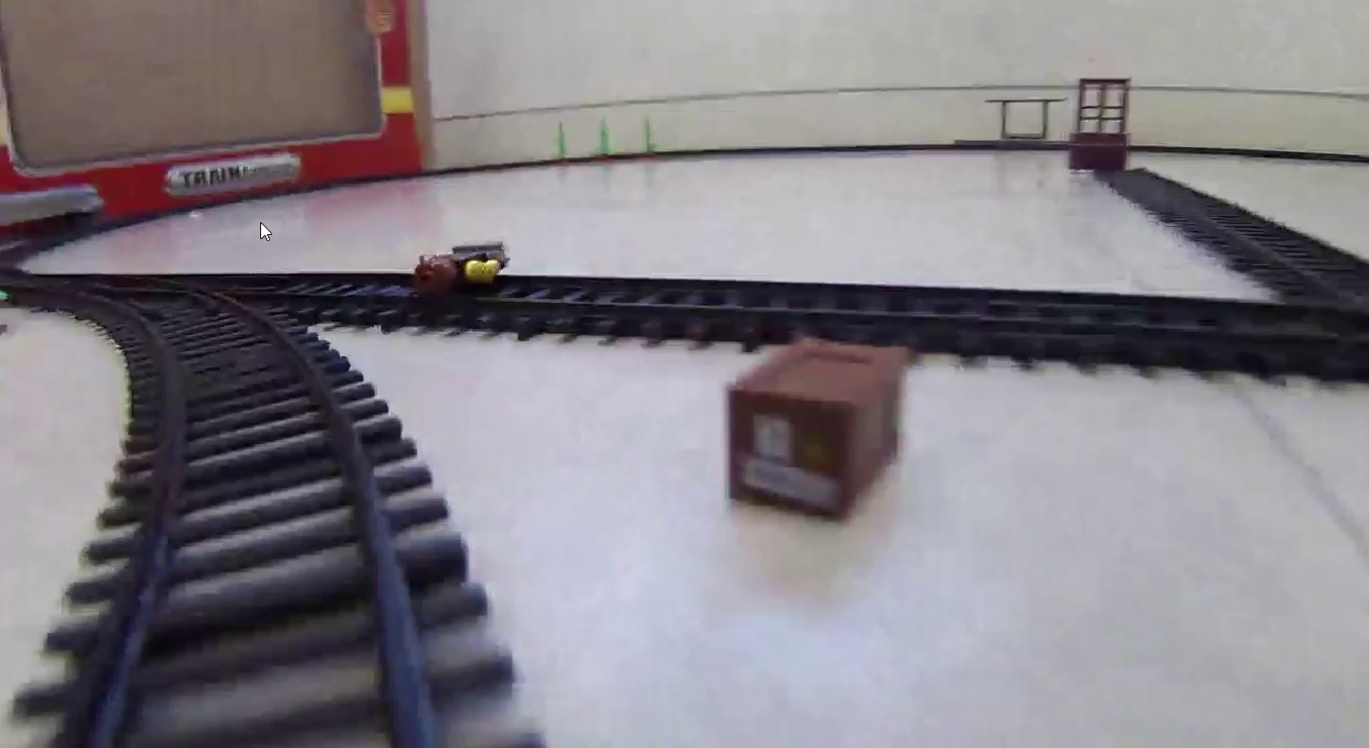box: (723, 334, 902, 522)
people: (415, 245, 502, 295)
